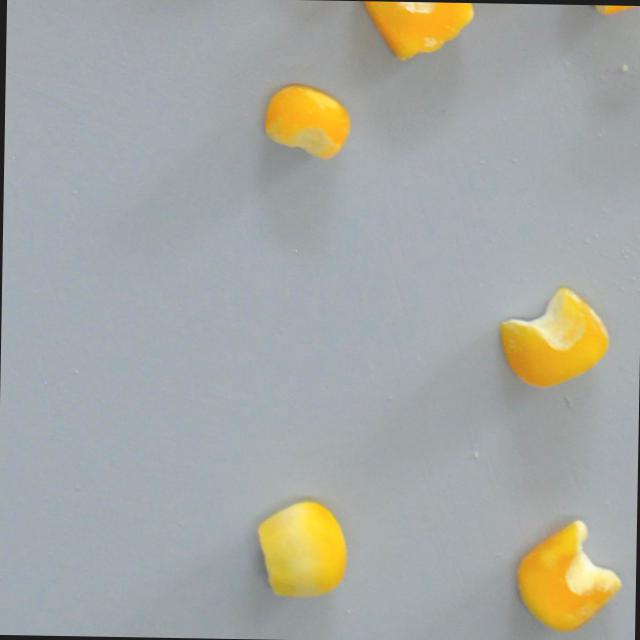no_canjicado: (251, 496, 351, 600)
no_desgerminado: (561, 4, 640, 18)
pelicula: (512, 514, 628, 637), (492, 283, 616, 393), (348, 0, 475, 66), (261, 83, 352, 163)
